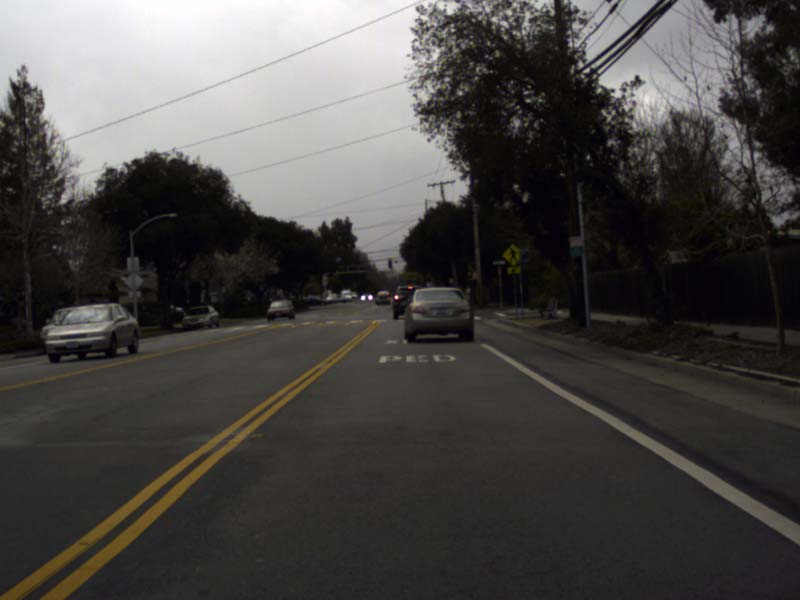Red: (388, 257, 392, 269)
